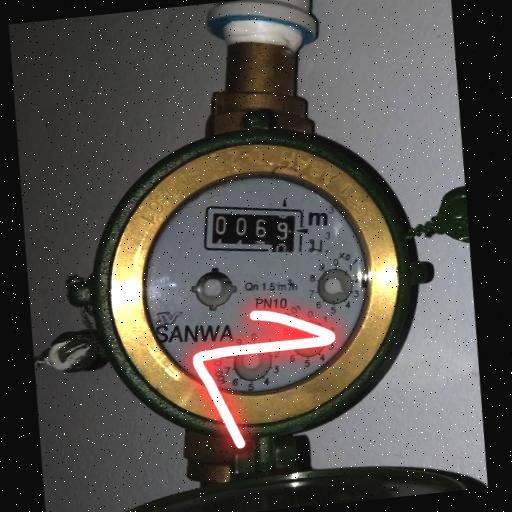0: (225, 212, 253, 246), (209, 211, 234, 245)
6: (245, 212, 277, 247)
9: (269, 213, 299, 254)
border_water_meter_number: (197, 195, 309, 263)
